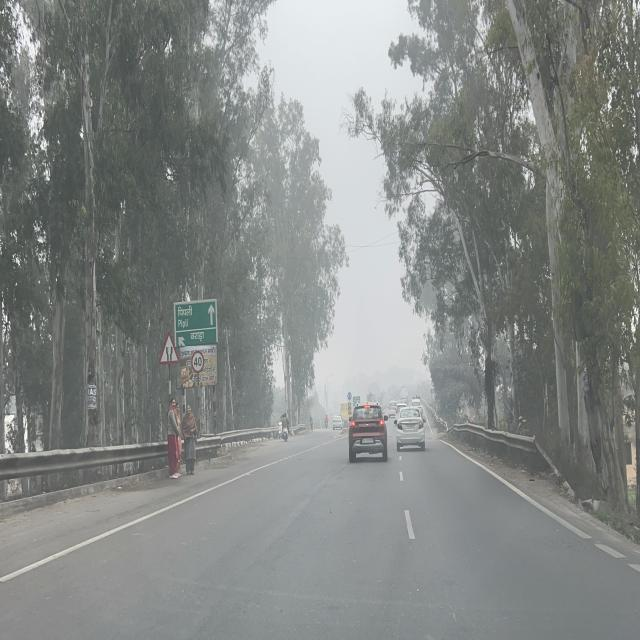GENERAL: (174, 298, 218, 347)
KEEP_EITHER_SIDE: (347, 392, 352, 400)
ROAD_WIDENS_AHEAD: (158, 331, 180, 365)
SPEED_LIMIT_40: (191, 350, 204, 373)
U_TURN_PROHIBITED: (371, 395, 375, 402)
